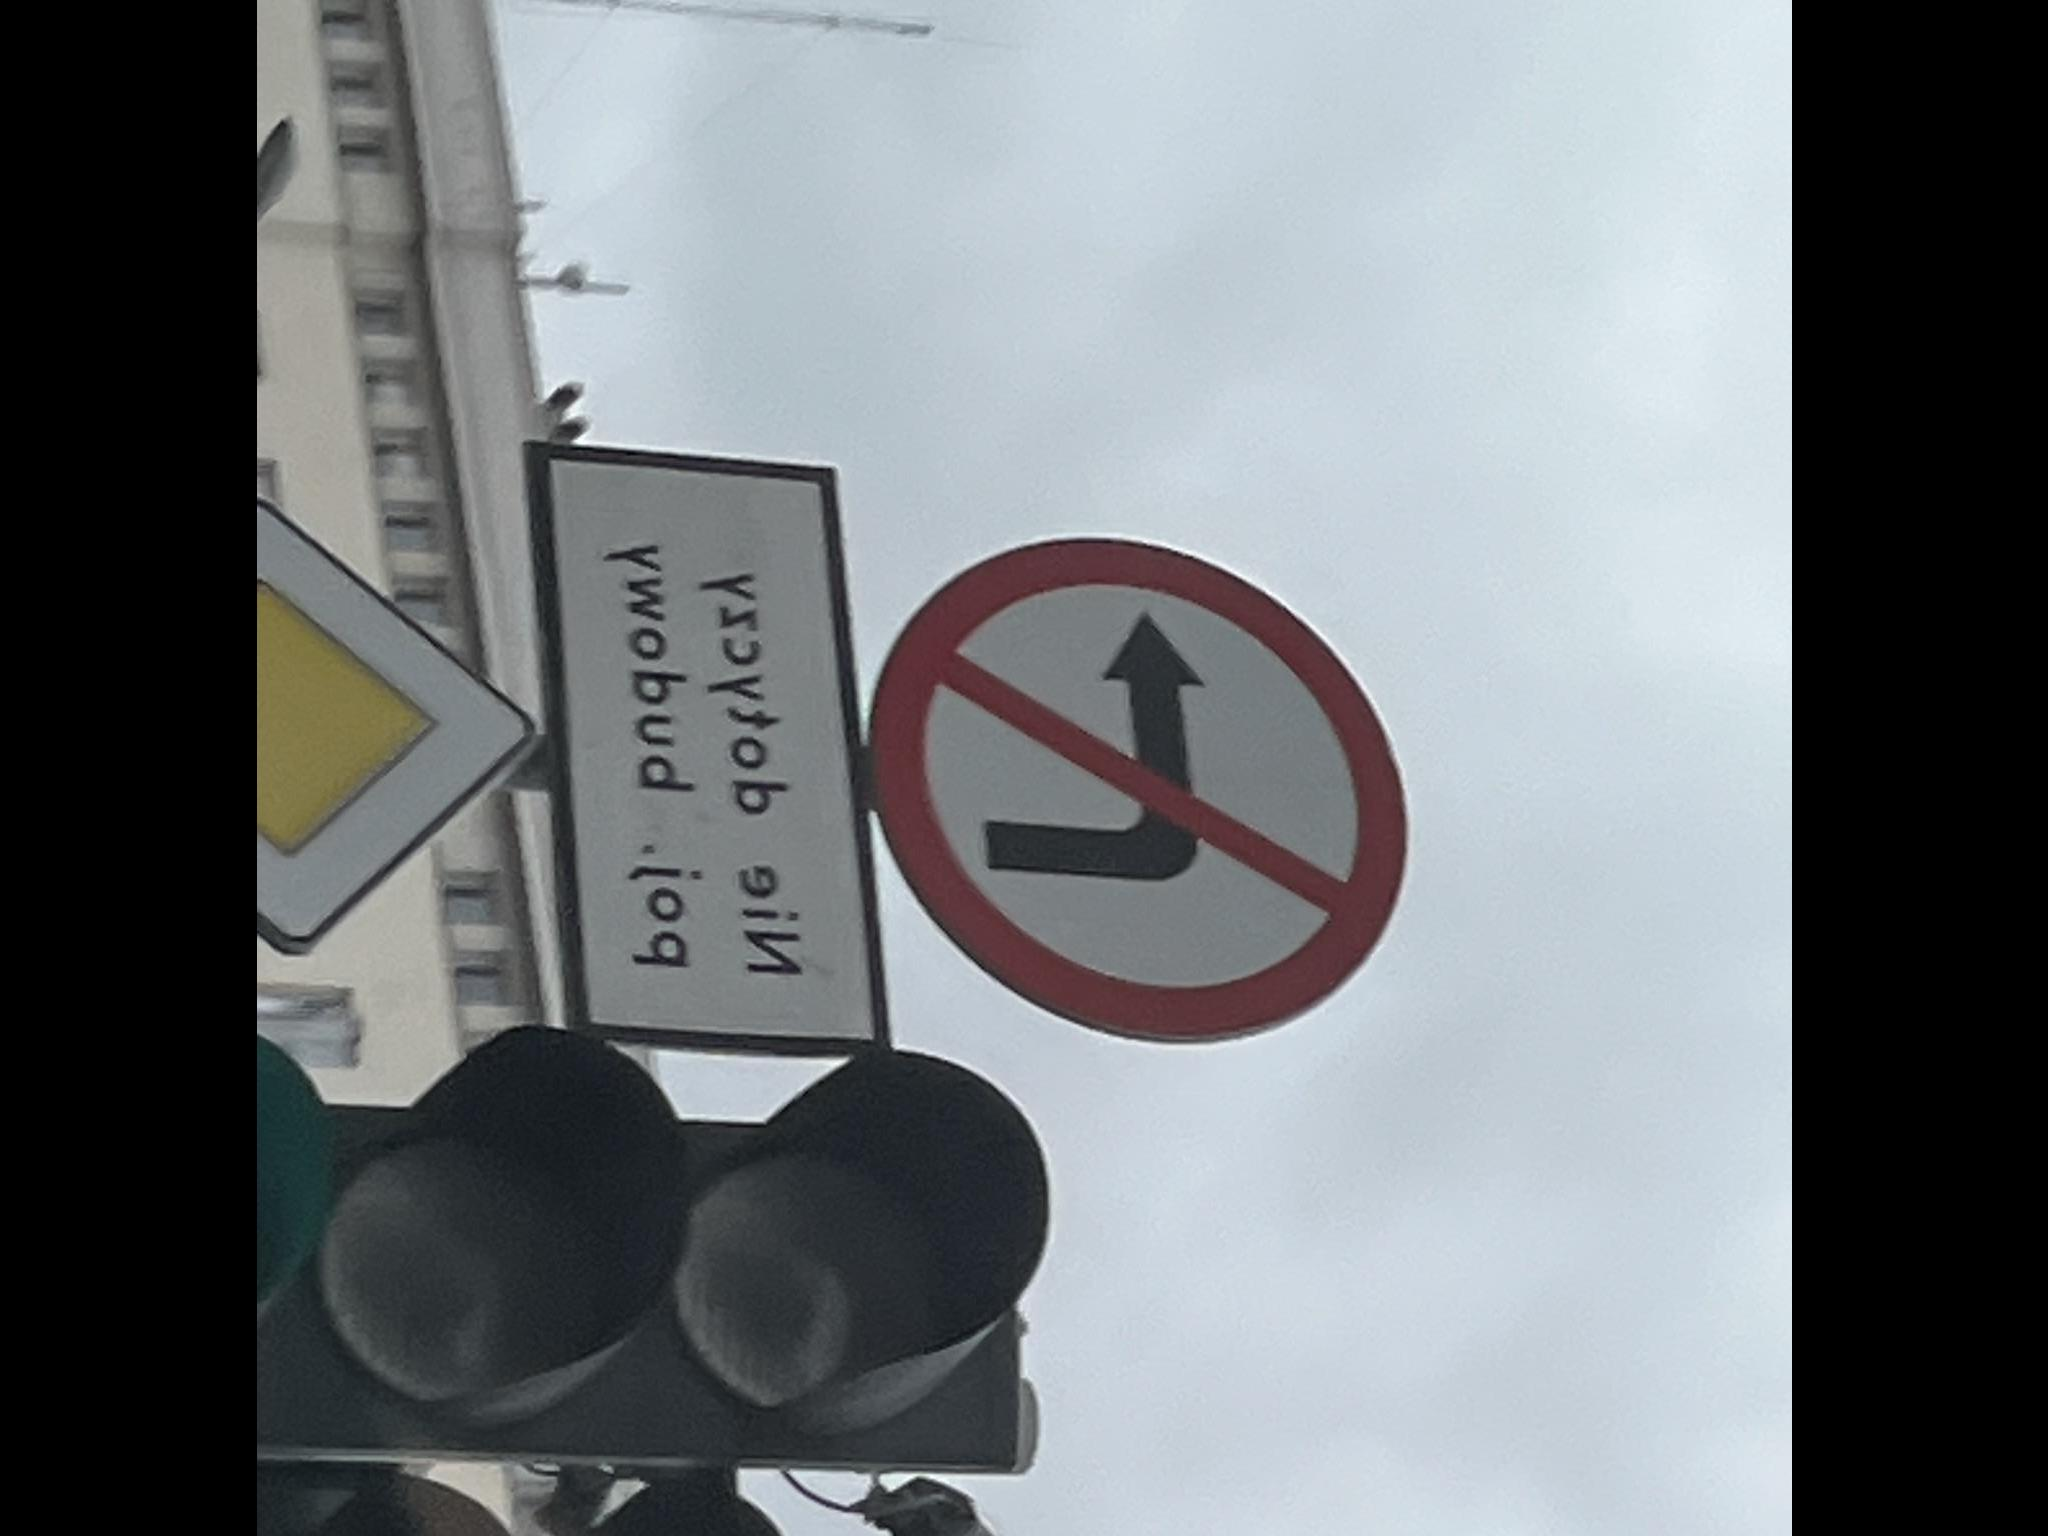information: (256, 495, 540, 958)
other: (522, 434, 897, 1055)
prohibitory: (864, 536, 1409, 1049)
